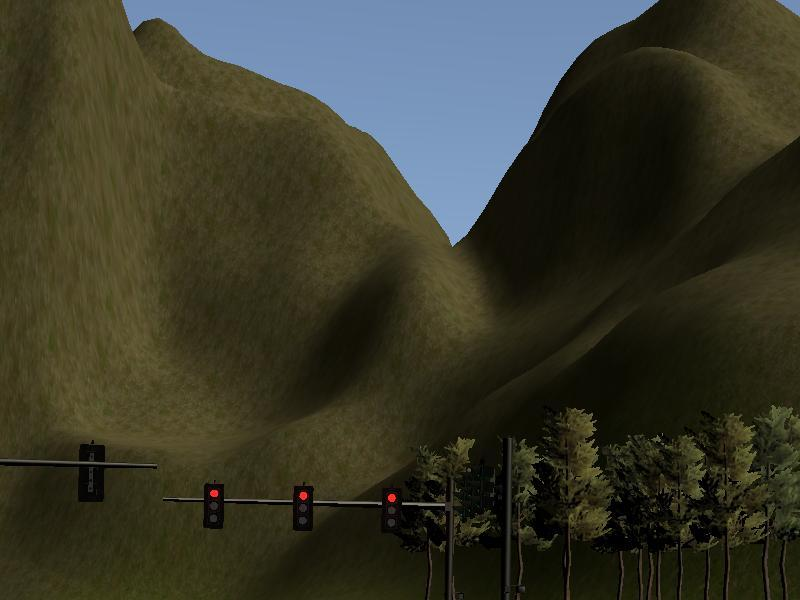Red: (380, 490, 400, 535), (292, 485, 312, 530), (203, 483, 223, 528)
